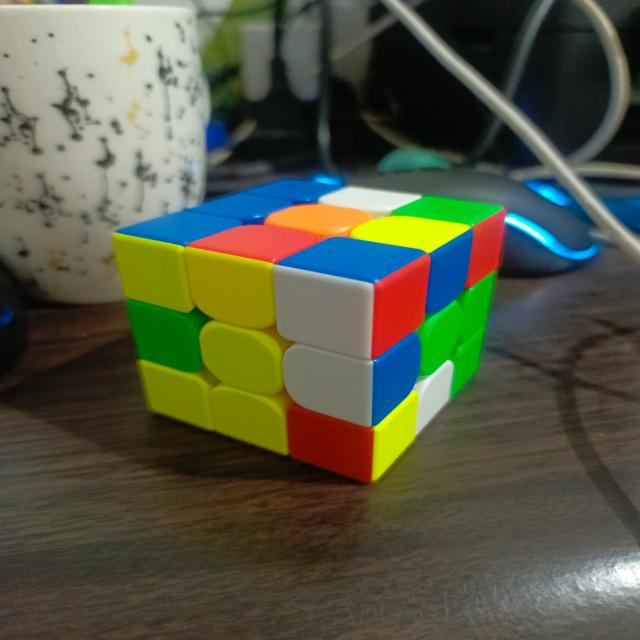rubik: (111, 173, 508, 483)
